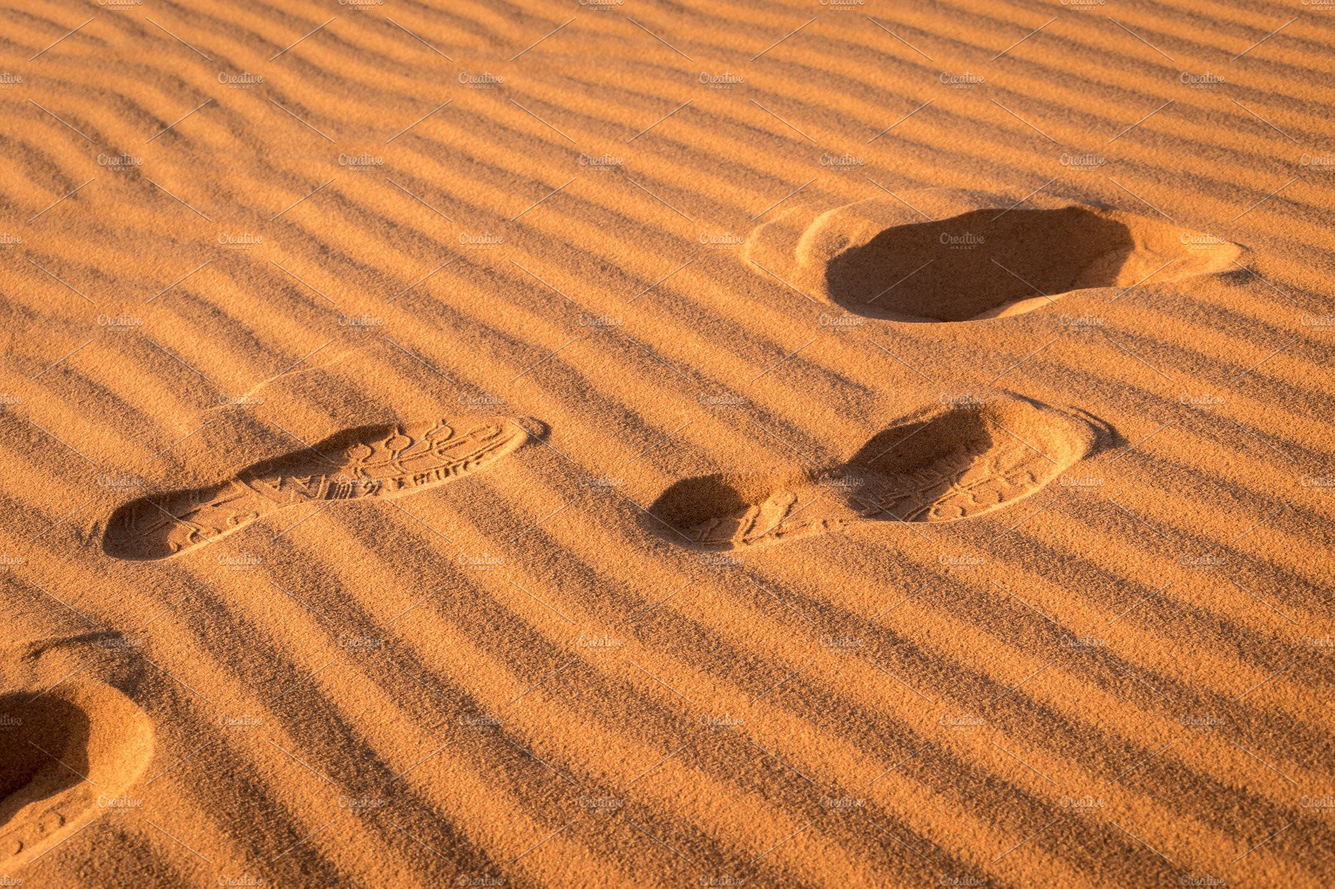human_footprint: (95, 380, 546, 578), (659, 388, 1136, 562), (790, 182, 1269, 317)
